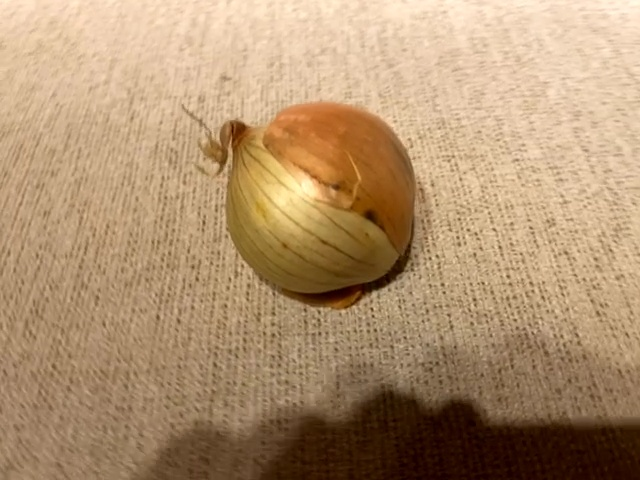onion: (178, 96, 423, 302)
